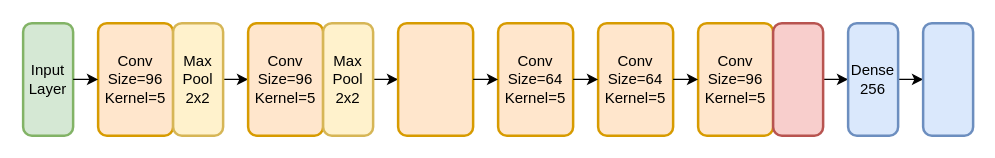
This 995x158 diagram has some shape labels left out. The centre of each missing label's shape, as x and y in pixels:
"Conv Size=80 Kernel=5" goes at (x=435, y=78).
"Dense 10" goes at (x=947, y=78).
"Flatten" goes at (x=797, y=78).
